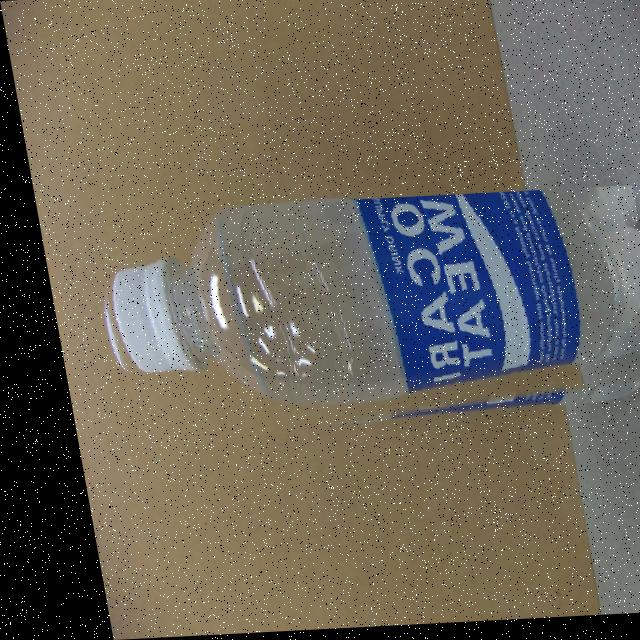plasticbottle: (73, 191, 640, 452)
